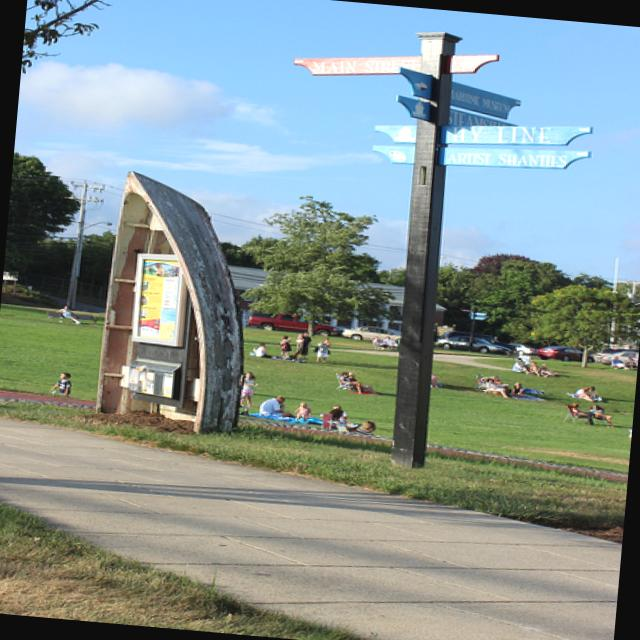Vehicle: (248, 309, 340, 337), (434, 334, 511, 356), (341, 322, 401, 346), (538, 344, 594, 364), (600, 348, 638, 366), (504, 342, 538, 354)
